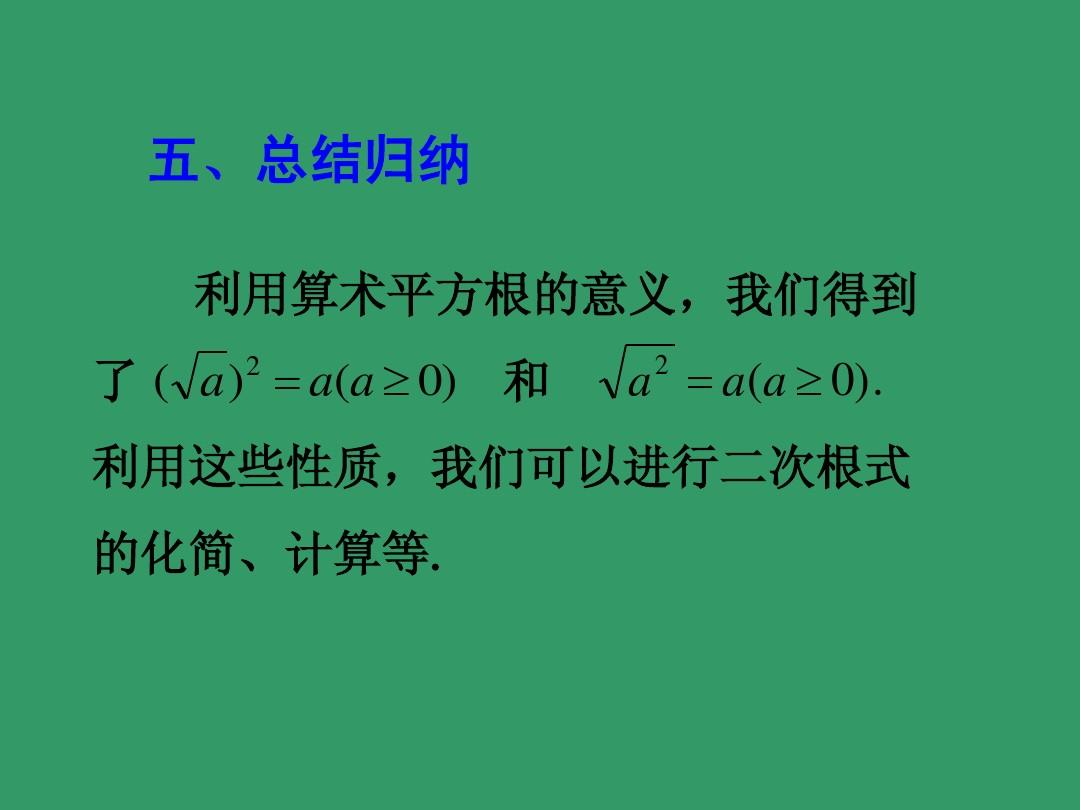sqrt: (600, 337, 679, 402), (178, 347, 231, 405)
square: (246, 350, 265, 379), (653, 351, 674, 376)
